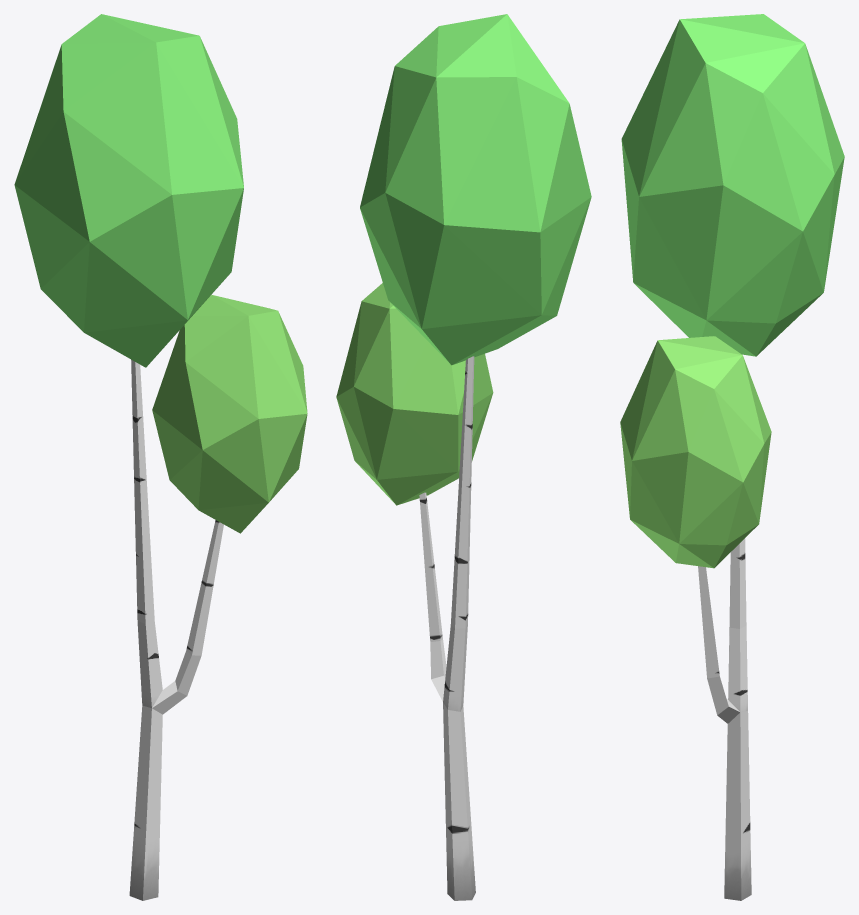
File: Birch_Tree_m_BT_01.fbx
3 renders of one model, left to right at view 1: azimuth 30°, elevation 25°; view 2: azimuth 150°, elevation 25°; view 3: azimuth 270°, elevation 25°, orthographic.
Parts seen in each view (by area): view 1: Birch_Tree_m_BT_01; view 2: Birch_Tree_m_BT_01; view 3: Birch_Tree_m_BT_01.
Part boxes in pixels (x1,y1,x2,y2): Birch_Tree_m_BT_01: (14, 14, 307, 900); Birch_Tree_m_BT_01: (336, 14, 591, 900); Birch_Tree_m_BT_01: (620, 14, 844, 900).
Size of the model in its own units: 264 by 924 by 217.
